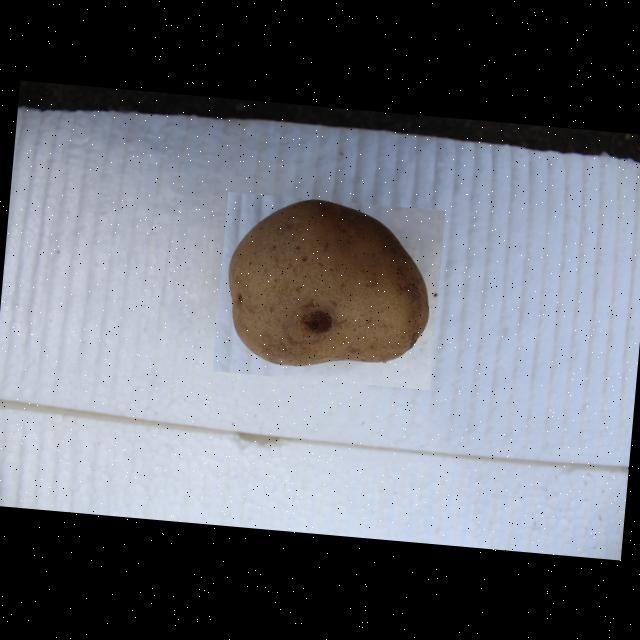Damaged potato: (212, 192, 445, 390)
